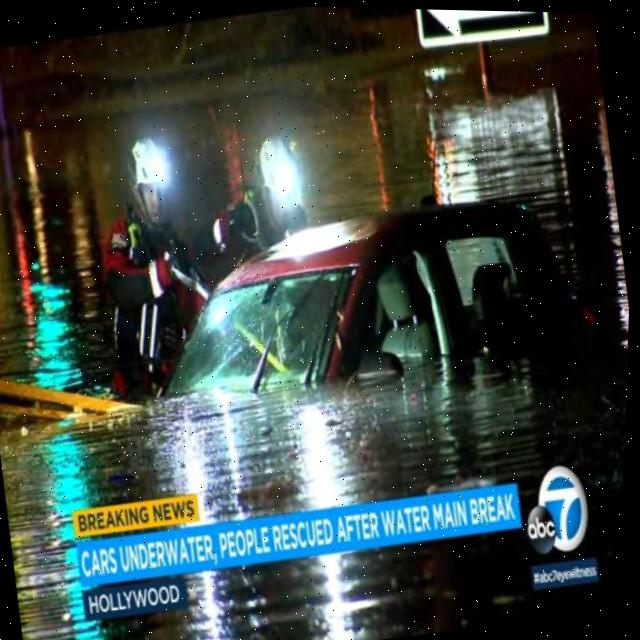rescuer: (66, 119, 219, 416), (186, 107, 365, 297)
